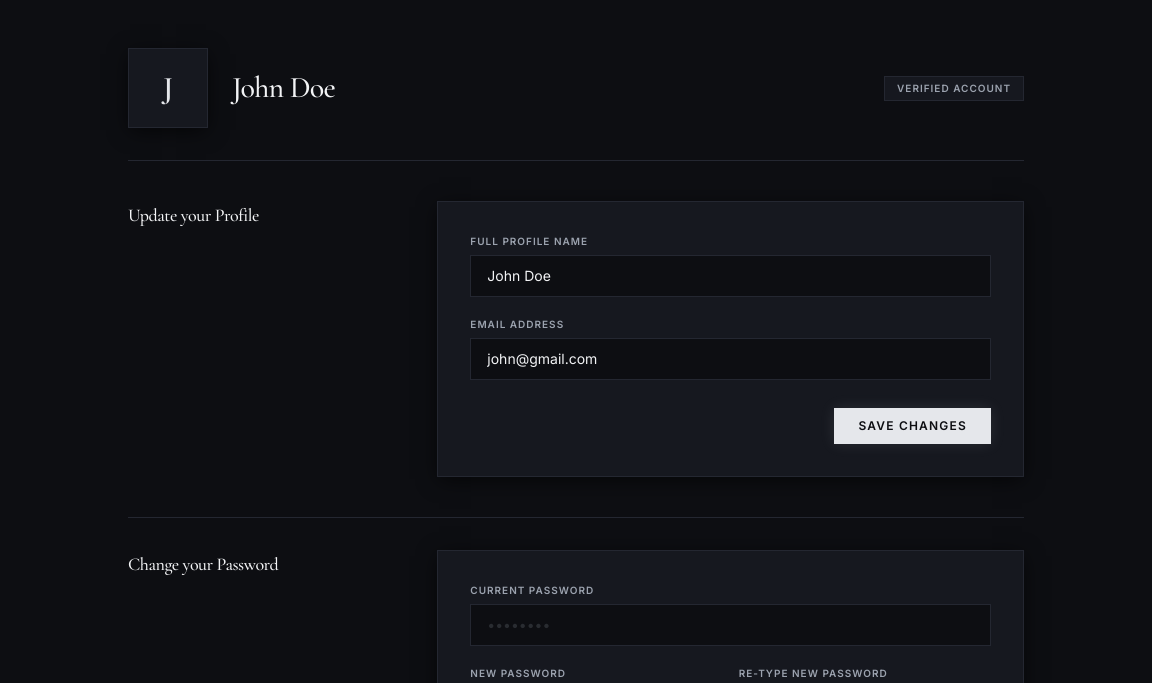
Scenario: UserProfile Page › should show success message after profile update
Replace the text in the field showing "John Doe" with "New Name" at (731, 276), box [470,255,991,297]
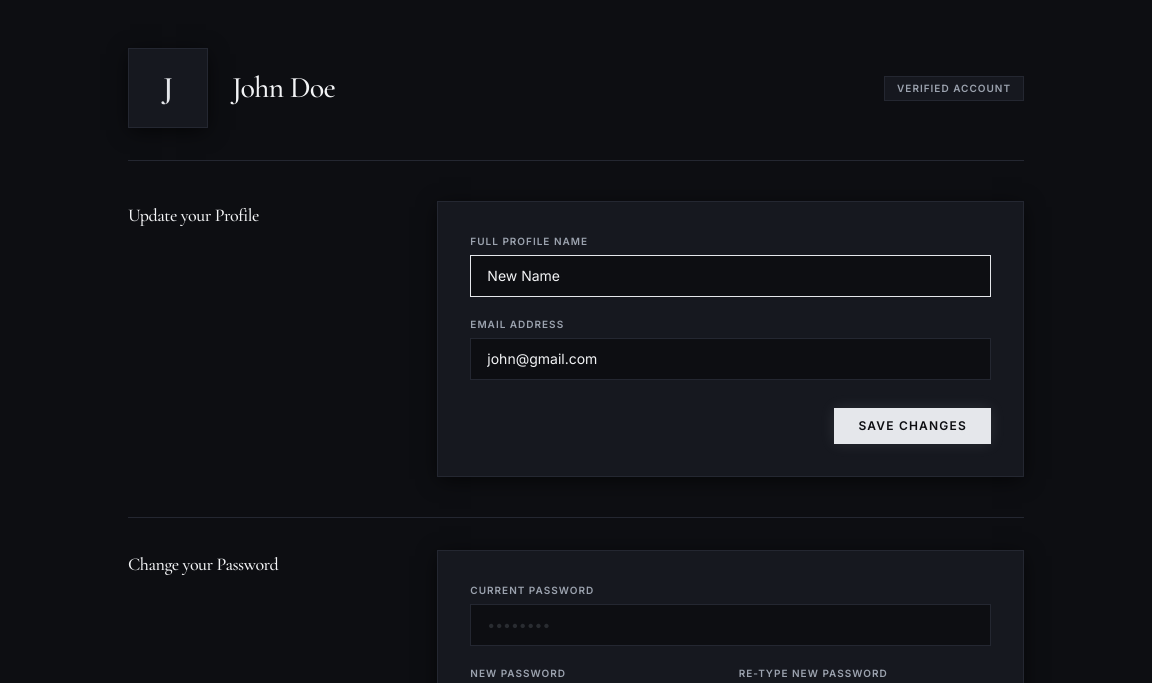
Click the button "Save Changes" at (913, 426), box [834,408,991,444]
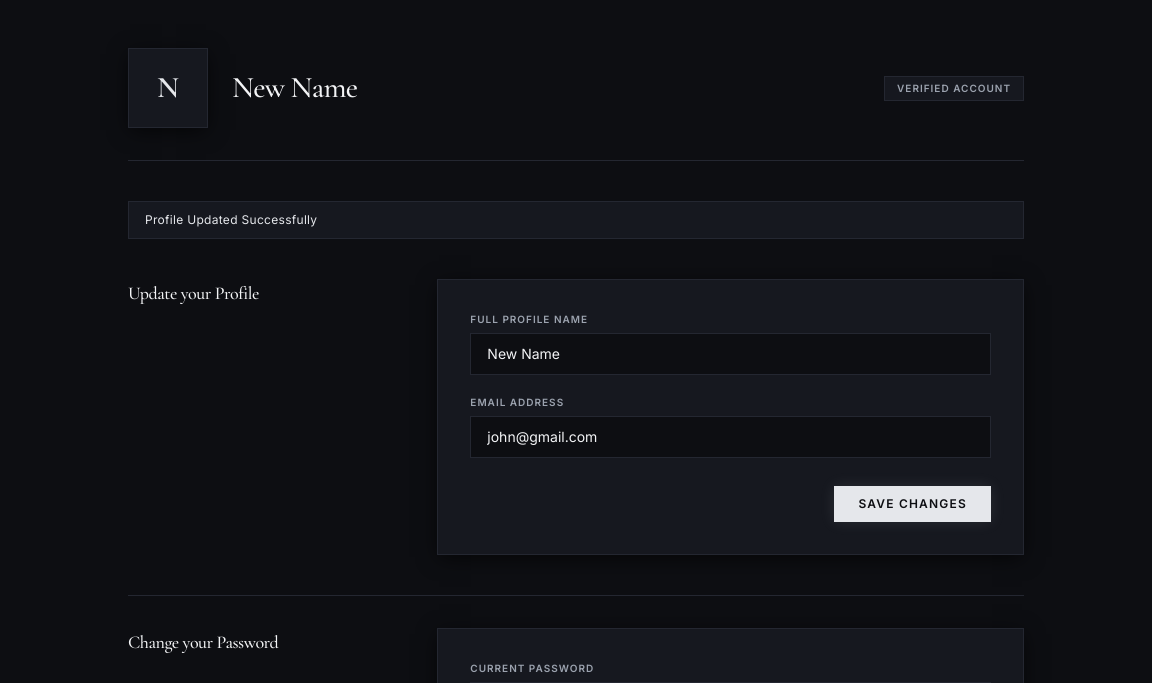
Check: the text "Profile Updated Successfully" is shown, box [128,201,1024,239]
